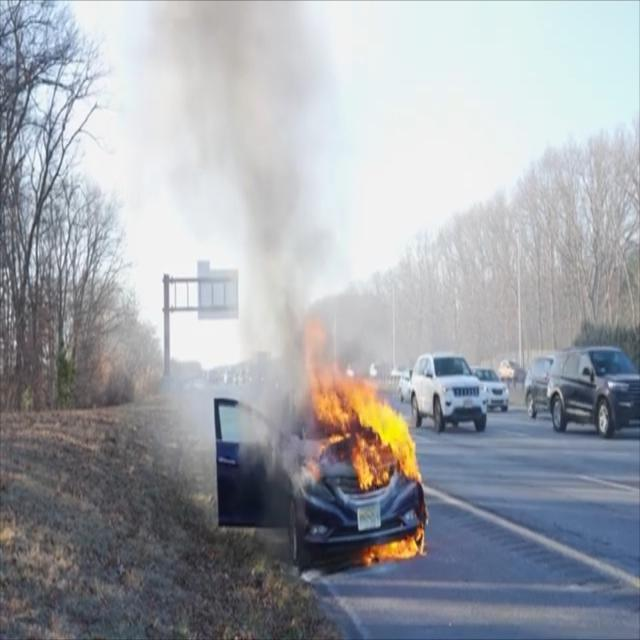fire: (299, 321, 427, 560)
